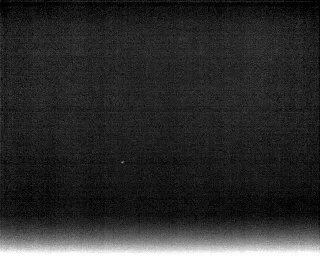AIRPLANE: (118, 158, 127, 168)
